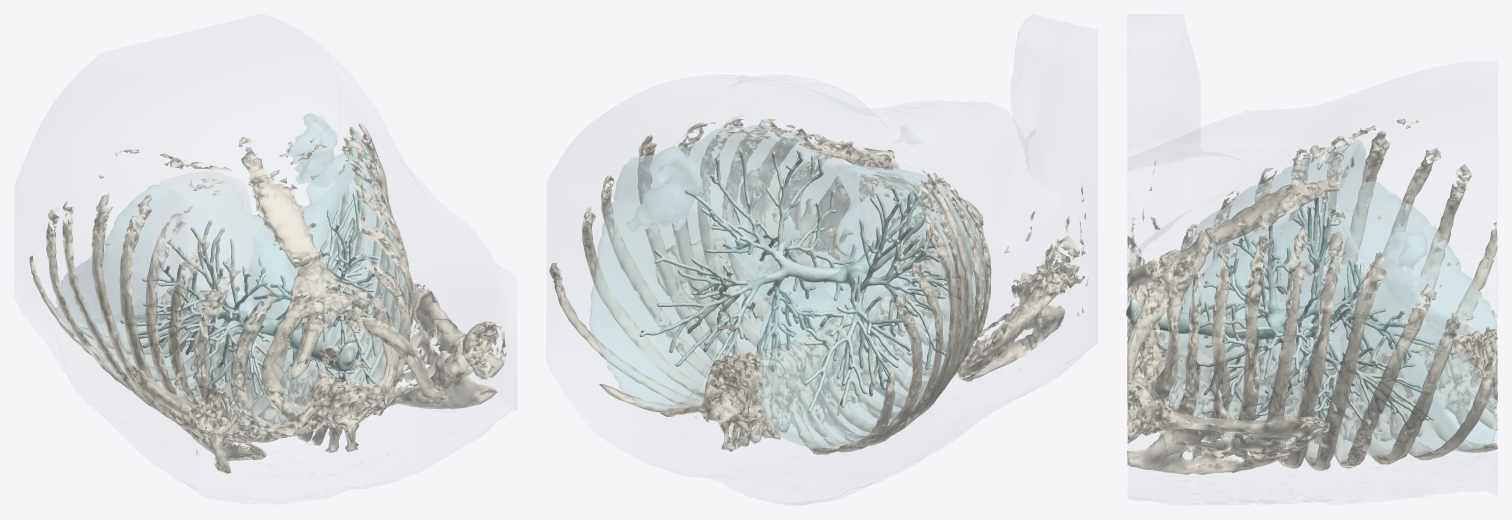
The model's file is thorax.glb.
3 renders of one model, left to right at view 1: azimuth 30°, elevation 25°; view 2: azimuth 150°, elevation 25°; view 3: azimuth 270°, elevation 25°, orthographic. The views are drawn at different scales.
Parts seen in each view (by area): view 1: Ribs and spine, Lungs, Airways, Thoracic envelope; view 2: Lungs, Ribs and spine, Airways, Thoracic envelope; view 3: Ribs and spine, Lungs, Airways, Thoracic envelope.
Boxes of the visible parts, x1,y1,x2,y2 form: Ribs and spine: (29,116,506,473); Lungs: (55,113,407,432); Airways: (120,188,382,401); Thoracic envelope: (55,40,498,503); Lungs: (589,124,984,448); Ribs and spine: (549,118,1088,454); Airways: (639,149,960,412); Thoracic envelope: (603,32,1090,504); Ribs and spine: (1127,119,1497,474); Lungs: (1128,139,1496,457); Airways: (1126,191,1456,435); Thoracic envelope: (1128,108,1482,504).
Size of the model in its own units: 0.3476 by 0.3449 by 0.3155.
